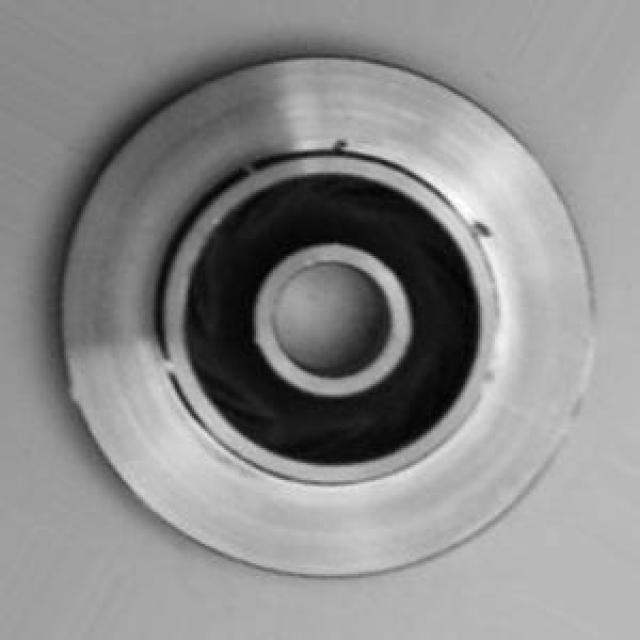Defect: (461, 208, 503, 249), (326, 133, 354, 156)
